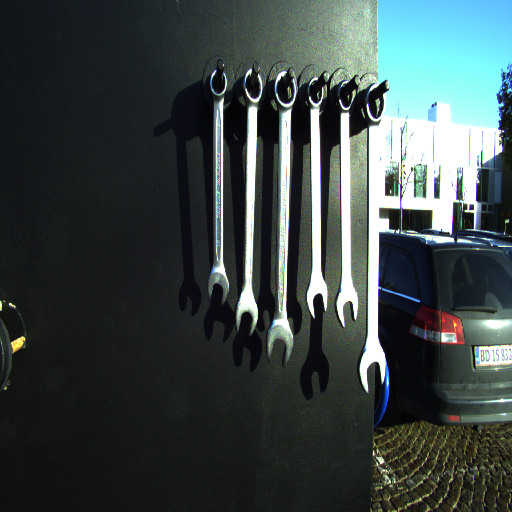bottom: (355, 348, 388, 393), (265, 320, 294, 368), (234, 292, 260, 335), (333, 289, 360, 328), (304, 279, 329, 319), (207, 269, 231, 305)
top: (272, 69, 298, 110), (364, 81, 387, 124), (241, 68, 265, 104), (334, 79, 357, 111), (207, 68, 230, 98), (306, 77, 325, 109)
